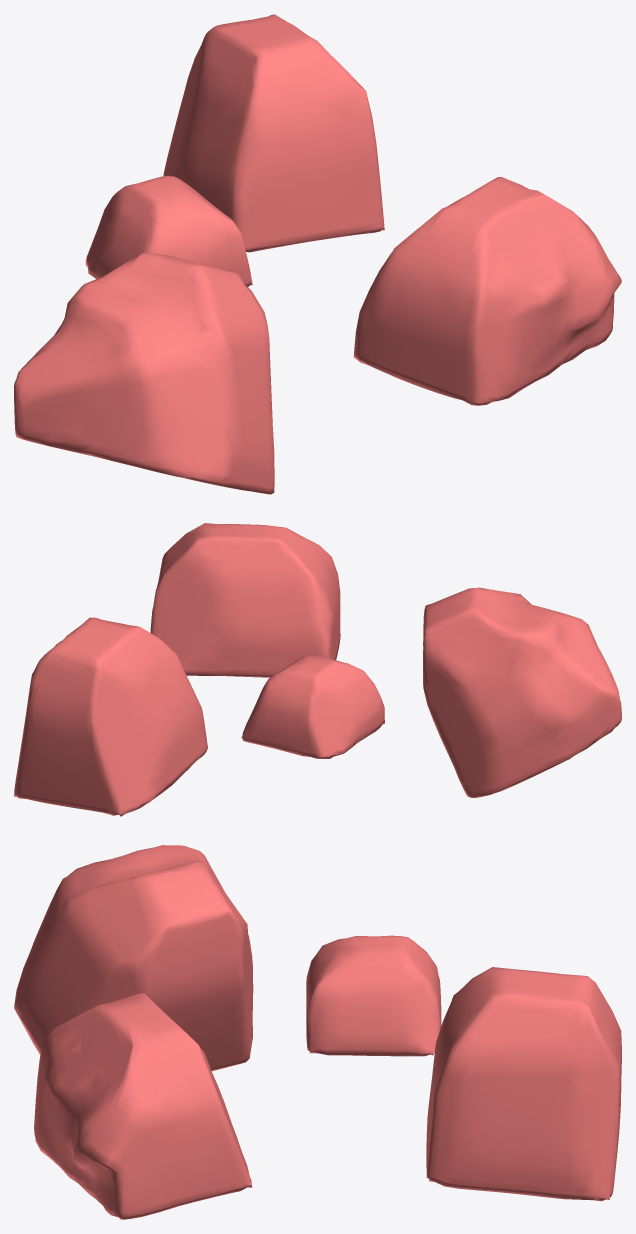
The model's file is rock06.fbx.
The picture shows the model from 3 angles, top to bottom: view 1: azimuth 30°, elevation 25°; view 2: azimuth 150°, elevation 25°; view 3: azimuth 270°, elevation 25°; orthographic projection. The views are drawn at different scales.
Parts seen in each view (by area): view 1: PM3D_Cube3D_1; view 2: PM3D_Cube3D_1; view 3: PM3D_Cube3D_1.
Boxes of the visible parts, <box> form: PM3D_Cube3D_1: <box>14,14,621,494</box>; PM3D_Cube3D_1: <box>14,523,621,816</box>; PM3D_Cube3D_1: <box>14,845,621,1219</box>.
Size of the model in its own units: 9.81 by 3.78 by 8.99.
